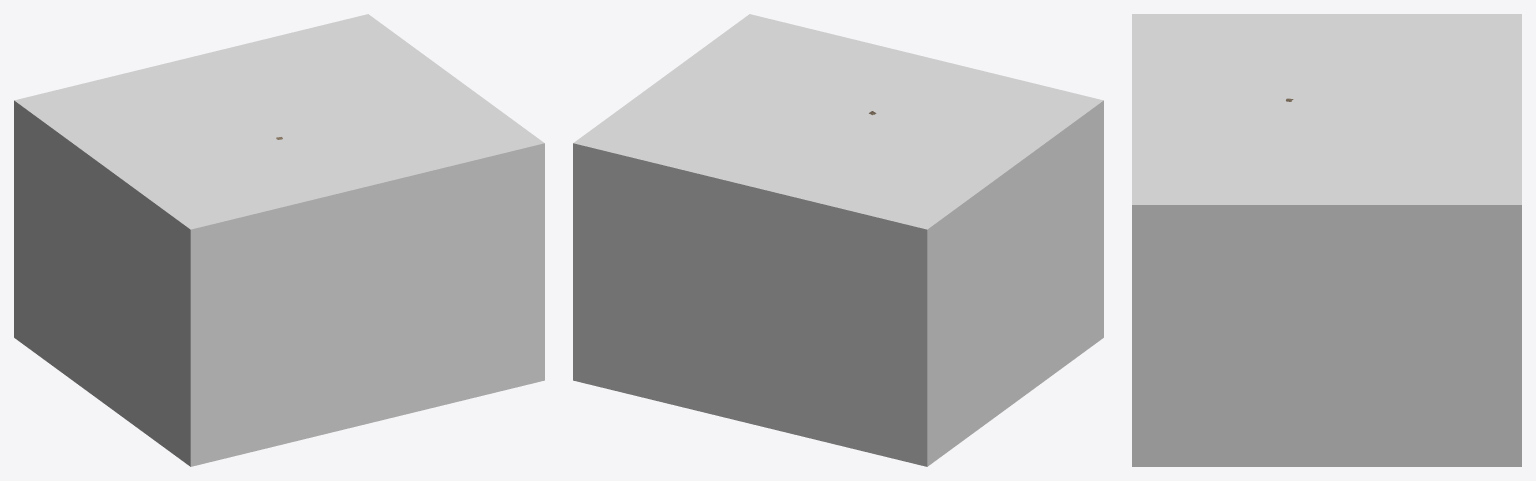
The model's file is rock_dirt03.dae.
3 renders of one model, left to right at view 1: azimuth 30°, elevation 25°; view 2: azimuth 150°, elevation 25°; view 3: azimuth 270°, elevation 25°, orthographic. The views are drawn at different scales.
Visible parts, largest first — view 1: Untitled; view 2: Untitled; view 3: Untitled.
Part boxes in pixels (left/top/right/bottom): Untitled: left=14, top=14, right=544, bottom=466; Untitled: left=573, top=14, right=1103, bottom=466; Untitled: left=1132, top=14, right=1521, bottom=466.
Bounding box in the file's own units: 3.37 × 2.91 × 2.64.
